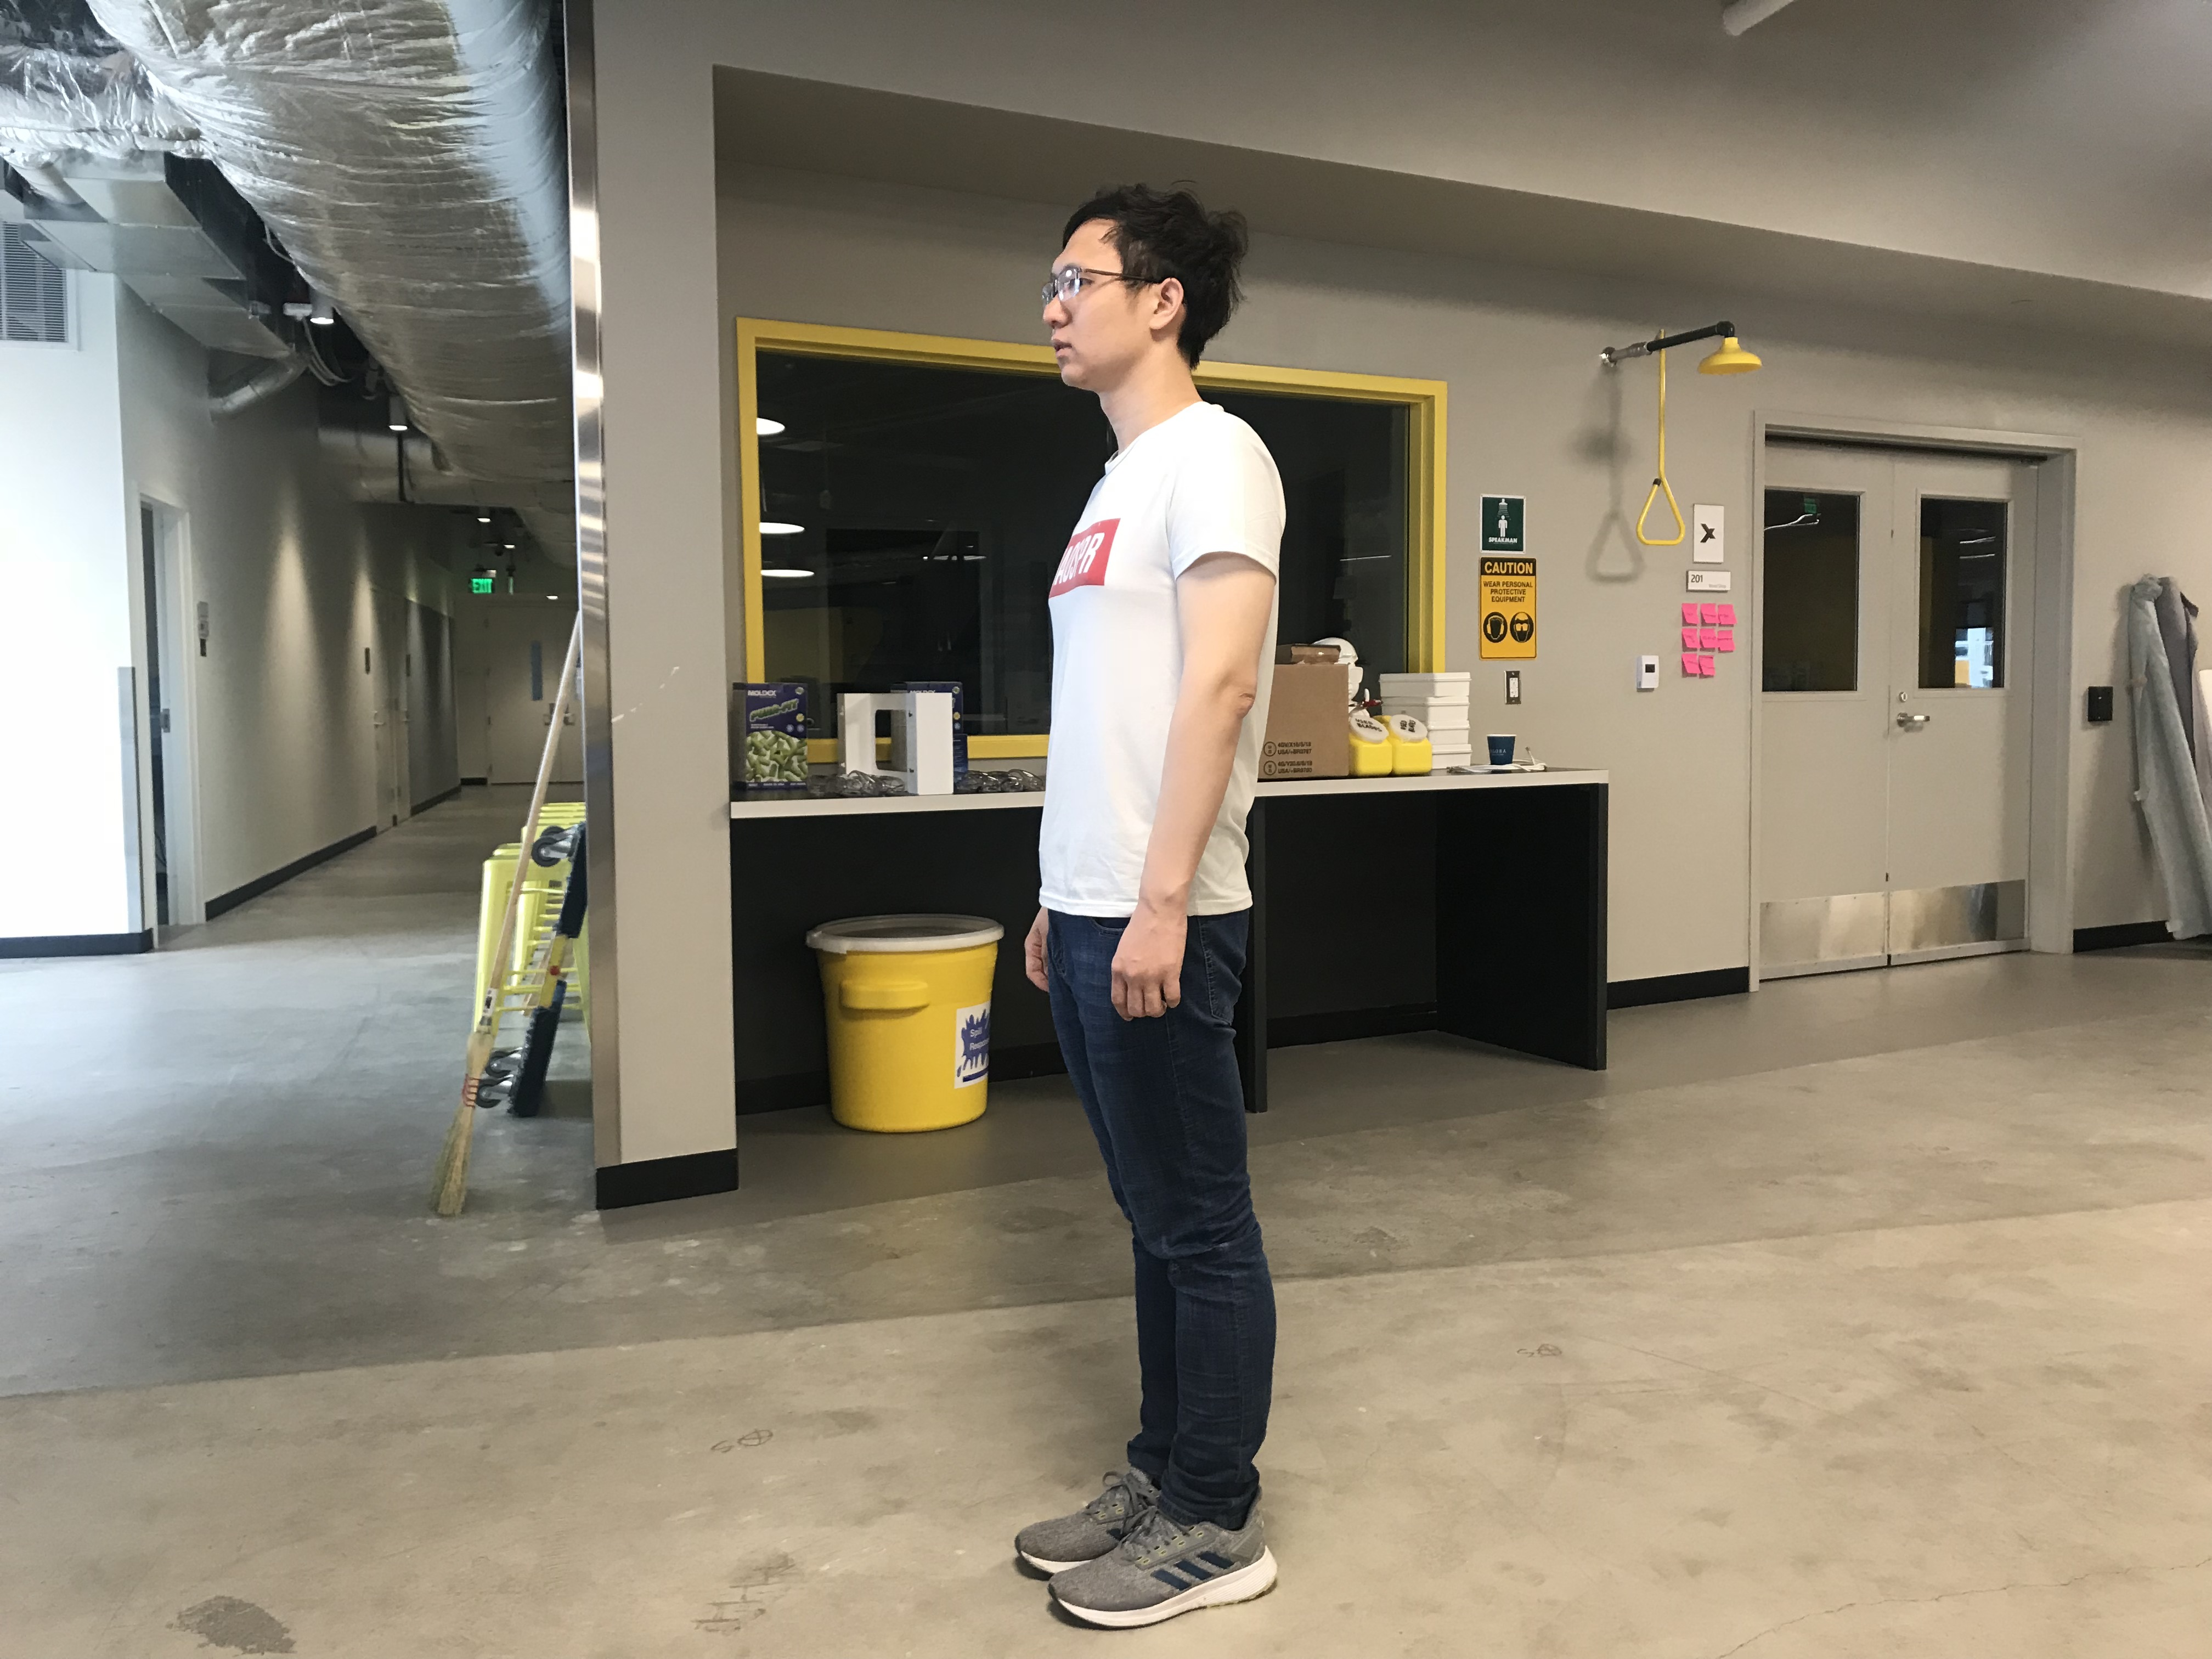attack_zone: (1066, 505, 1221, 854), (2029, 87, 2043, 105)
